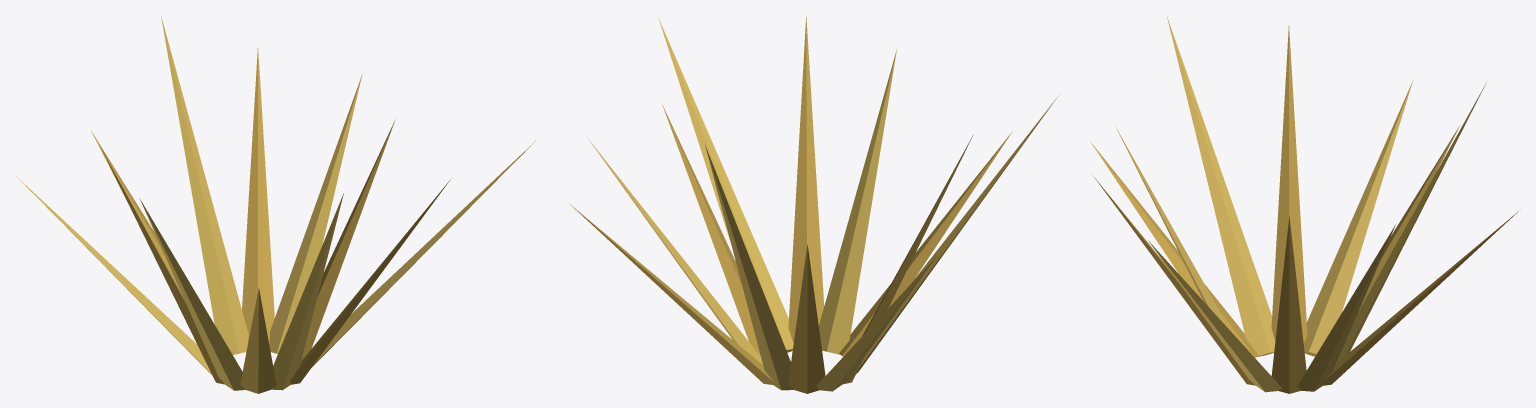
File: grama_seca.glb
The picture shows the model from 3 angles, left to right: view 1: azimuth 30°, elevation 25°; view 2: azimuth 150°, elevation 25°; view 3: azimuth 270°, elevation 25°; orthographic projection. The views are drawn at different scales.
Visible parts, largest first — view 1: lamina_3, lamina_2, lamina_1, lamina_9, lamina_7, lamina_0, lamina_8, lamina_10, lamina_11, lamina_5, lamina_6, lamina_4; view 2: lamina_9, lamina_10, lamina_11, lamina_3, lamina_4, lamina_0, lamina_8, lamina_2, lamina_5, lamina_1, lamina_7, lamina_6; view 3: lamina_7, lamina_5, lamina_6, lamina_0, lamina_1, lamina_11, lamina_3, lamina_8, lamina_2, lamina_10, lamina_9, lamina_4.
Part boxes in pixels (x1=…): lamina_3: x1=161, y1=16, x2=248, y2=354; lamina_2: x1=242, y1=48, x2=274, y2=352; lamina_1: x1=269, y1=73, x2=362, y2=353; lamina_9: x1=271, y1=193, x2=343, y2=390; lamina_7: x1=139, y1=198, x2=245, y2=390; lamina_0: x1=301, y1=119, x2=395, y2=360; lamina_8: x1=240, y1=288, x2=276, y2=393; lamina_10: x1=290, y1=179, x2=450, y2=384; lamina_11: x1=301, y1=141, x2=535, y2=366; lamina_5: x1=16, y1=176, x2=211, y2=374; lamina_6: x1=101, y1=148, x2=224, y2=384; lamina_4: x1=91, y1=130, x2=181, y2=293; lamina_9: x1=819, y1=49, x2=896, y2=354; lamina_10: x1=788, y1=17, x2=824, y2=342; lamina_11: x1=658, y1=17, x2=793, y2=352; lamina_3: x1=705, y1=145, x2=793, y2=390; lamina_4: x1=788, y1=244, x2=825, y2=393; lamina_0: x1=662, y1=104, x2=760, y2=356; lamina_8: x1=839, y1=131, x2=1012, y2=356; lamina_2: x1=570, y1=204, x2=774, y2=384; lamina_5: x1=816, y1=257, x2=935, y2=391; lamina_1: x1=588, y1=139, x2=762, y2=364; lamina_7: x1=856, y1=97, x2=1057, y2=373; lamina_6: x1=843, y1=135, x2=973, y2=384; lamina_7: x1=1167, y1=17, x2=1275, y2=356; lamina_5: x1=1303, y1=80, x2=1413, y2=356; lamina_6: x1=1271, y1=25, x2=1307, y2=343; lamina_0: x1=1271, y1=216, x2=1306, y2=393; lamina_1: x1=1297, y1=224, x2=1395, y2=391; lamina_11: x1=1148, y1=240, x2=1282, y2=392; lamina_3: x1=1336, y1=82, x2=1486, y2=363; lamina_8: x1=1090, y1=141, x2=1258, y2=357; lamina_2: x1=1323, y1=211, x2=1518, y2=385; lamina_10: x1=1092, y1=174, x2=1255, y2=385; lamina_9: x1=1116, y1=128, x2=1230, y2=330; lamina_4: x1=1359, y1=126, x2=1459, y2=309.
Size of the model in its own units: 0.8485 by 0.5936 by 0.7888.
